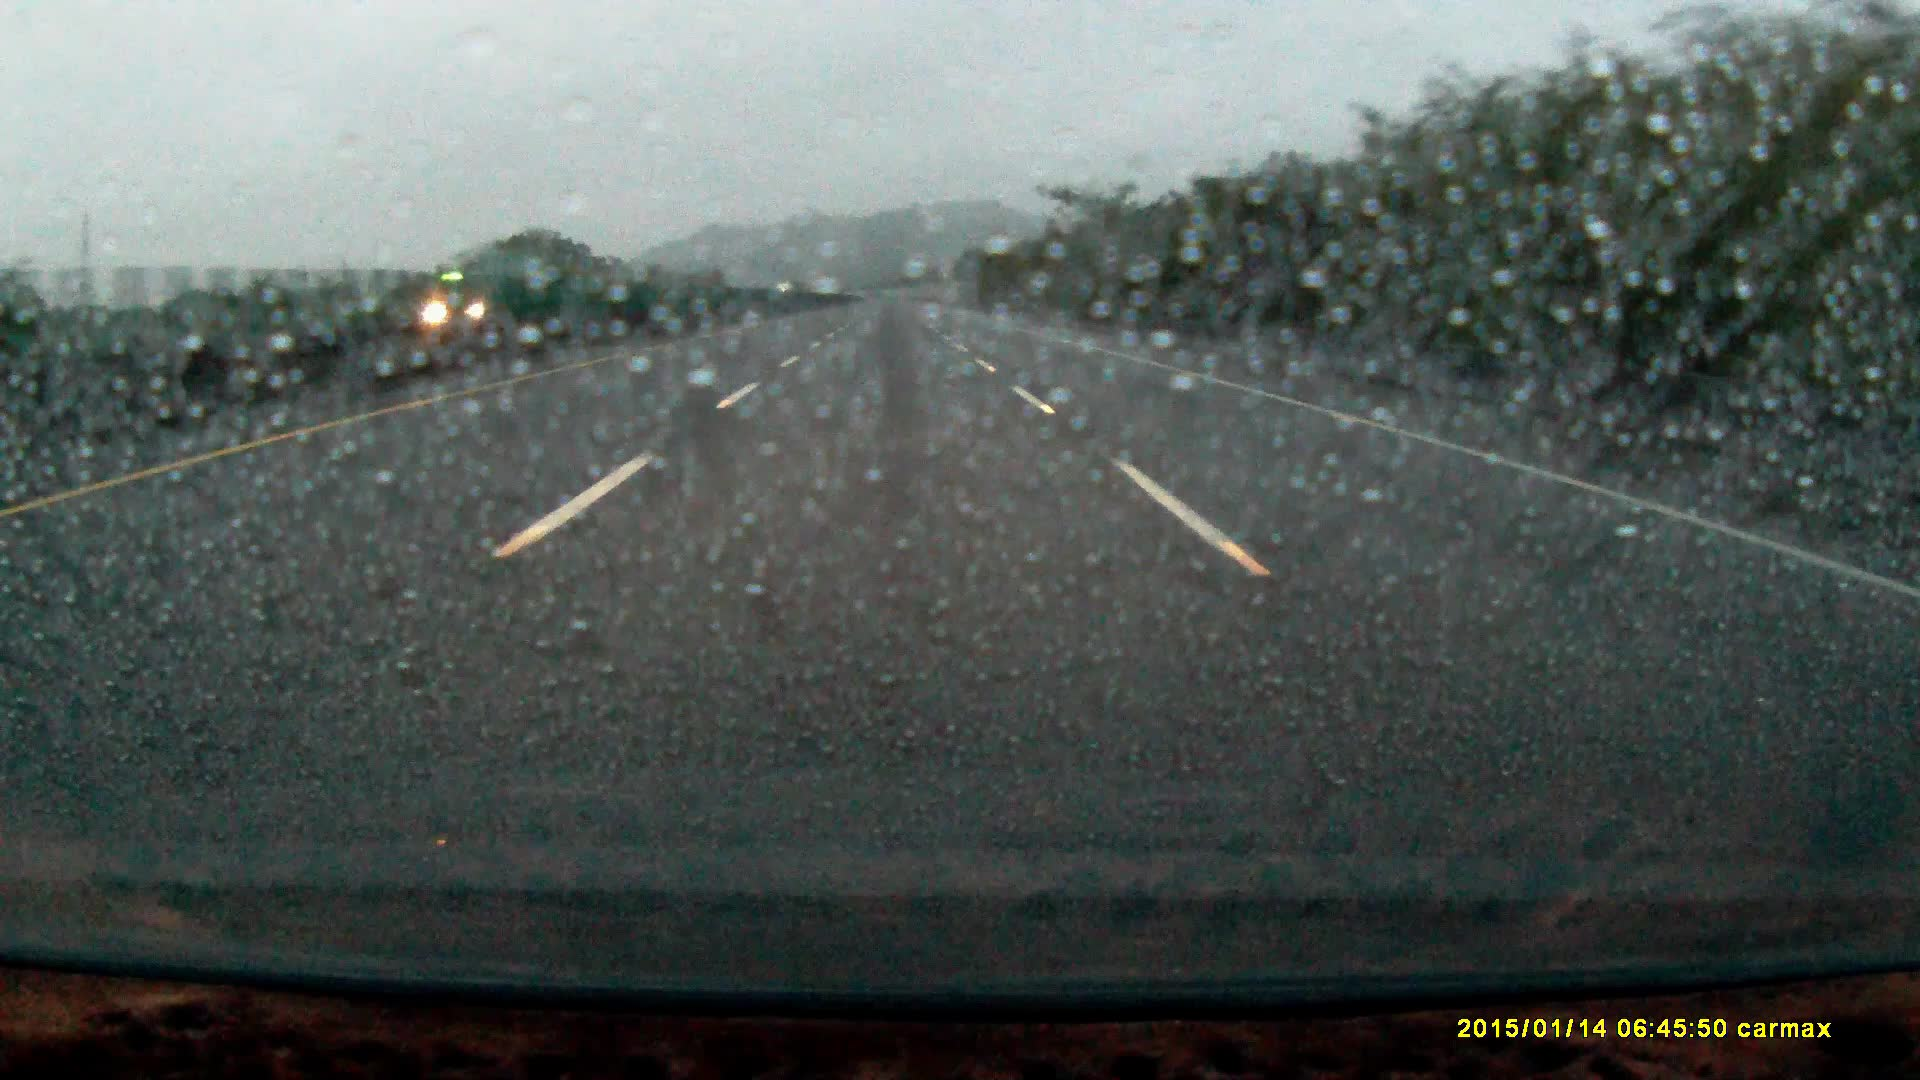vehicle: (422, 258, 555, 338)
